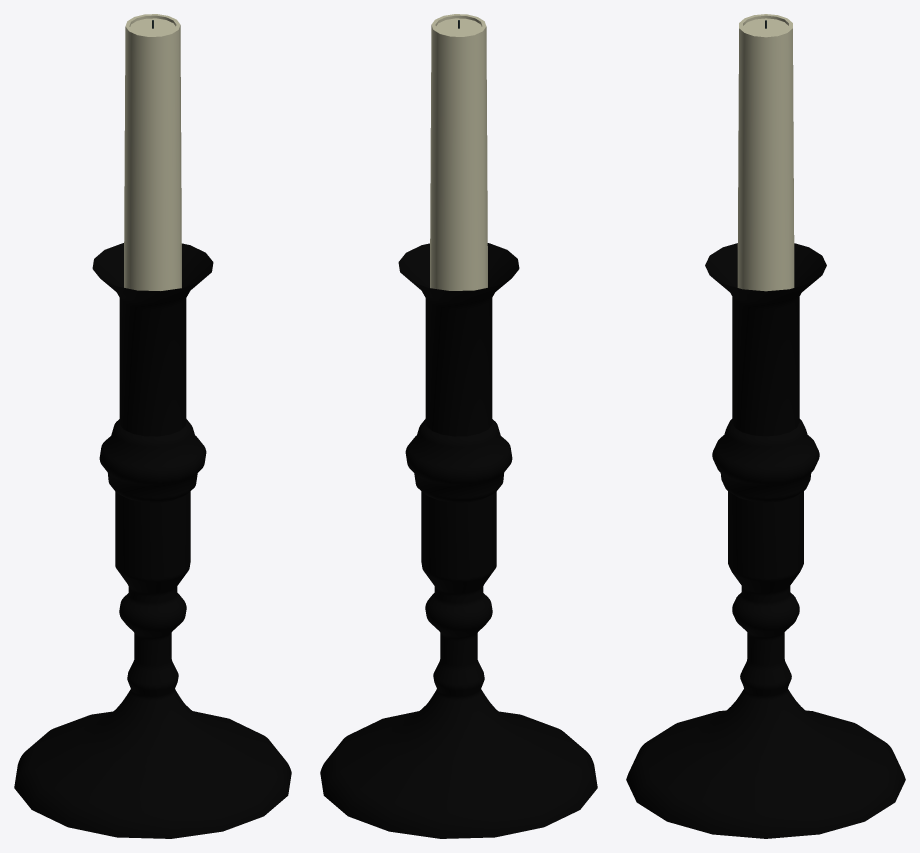
Rendered from Candle1.fbx.
3 renders of one model, left to right at view 1: azimuth 30°, elevation 25°; view 2: azimuth 150°, elevation 25°; view 3: azimuth 270°, elevation 25°, orthographic.
Parts seen in each view (by area): view 1: Candle1; view 2: Candle1; view 3: Candle1.
Boxes of the visible parts, <box> form: Candle1: <box>14,14,291,838</box>; Candle1: <box>320,14,597,838</box>; Candle1: <box>626,14,905,838</box>.
Bounding box in the file's own units: 15.15 × 45.36 × 15.15.
